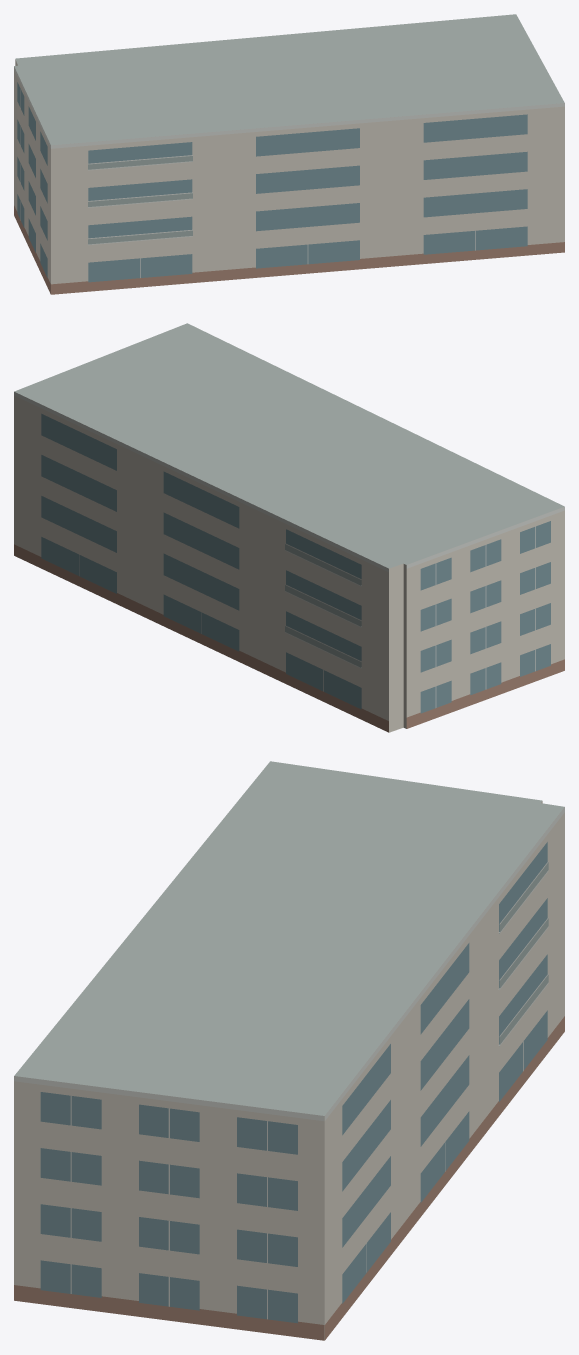
File: survey-upis-32583072.glb
3 renders of one model, top to bottom at view 1: azimuth 30°, elevation 25°; view 2: azimuth 150°, elevation 25°; view 3: azimuth 270°, elevation 25°, orthographic. The views are drawn at different scales.
Parts seen in each view (by area): view 1: survey-upis-32583072.tmp; view 2: survey-upis-32583072.tmp; view 3: survey-upis-32583072.tmp.
Part boxes in pixels (<box>): survey-upis-32583072.tmp: <box>14,14,564,294</box>; survey-upis-32583072.tmp: <box>14,323,564,732</box>; survey-upis-32583072.tmp: <box>14,761,564,1340</box>.
Size of the model in its own units: 35.23 by 10.4 by 23.11.
